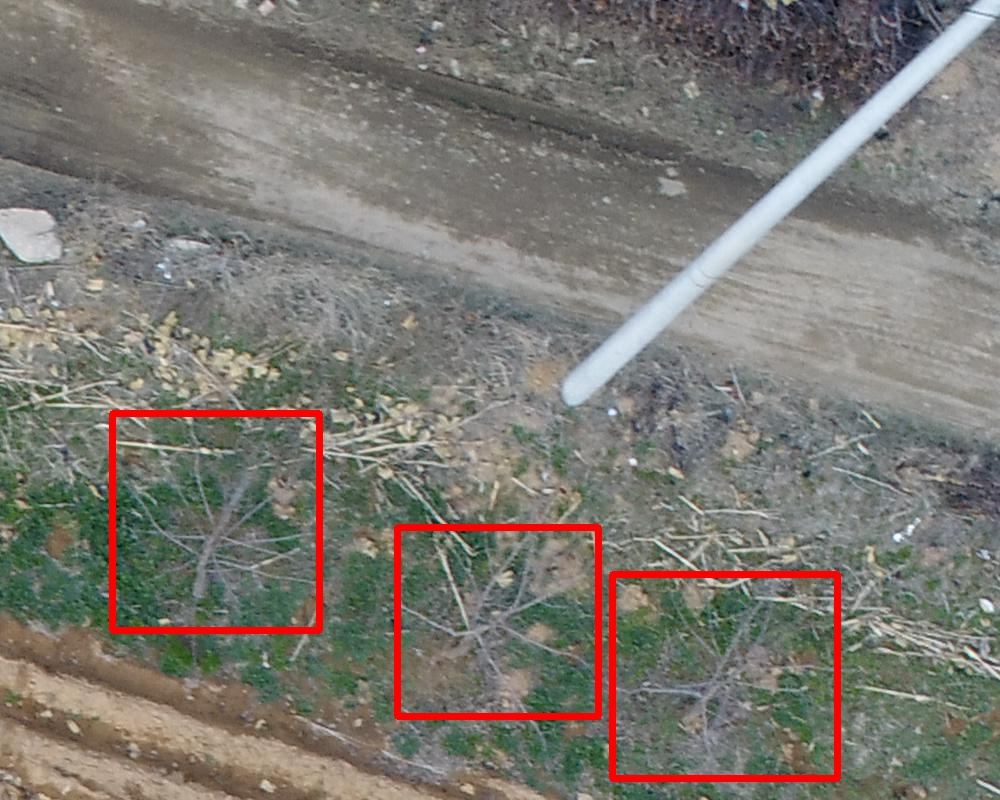apple: (612, 574, 837, 778), (112, 413, 319, 630), (397, 527, 598, 716)
